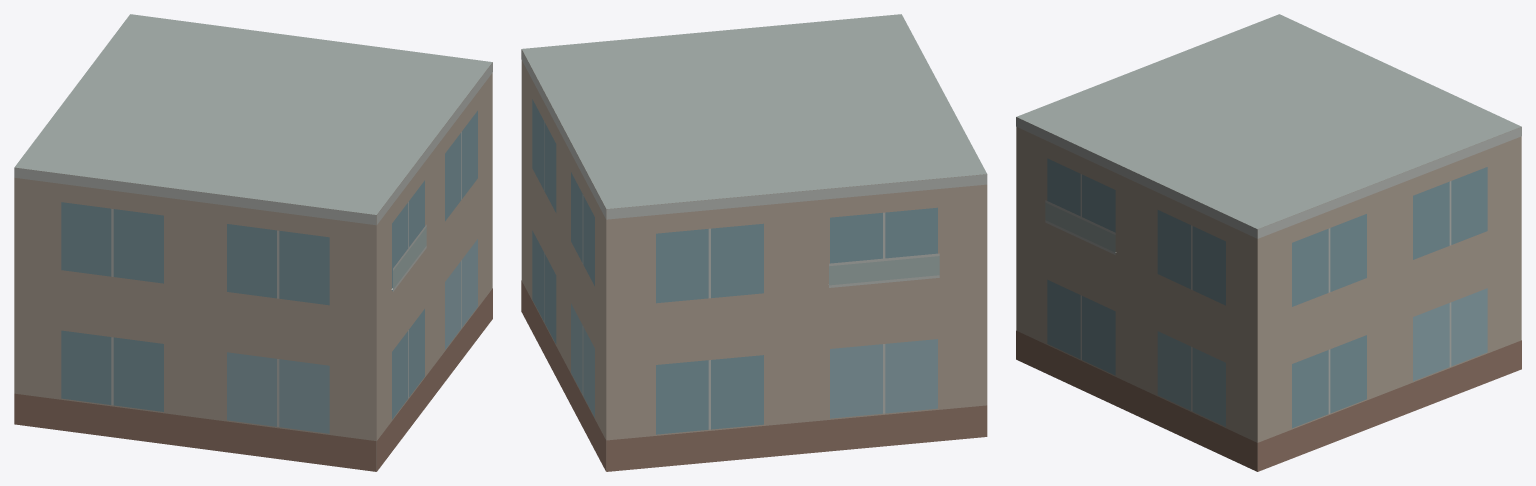
The model's file is survey-upis-32894052.glb.
3 renders of one model, left to right at view 1: azimuth 30°, elevation 25°; view 2: azimuth 150°, elevation 25°; view 3: azimuth 270°, elevation 25°, orthographic. The views are drawn at different scales.
Parts seen in each view (by area): view 1: survey-upis-32894052.tmp; view 2: survey-upis-32894052.tmp; view 3: survey-upis-32894052.tmp.
Boxes of the visible parts, left/top/right/bottom form: survey-upis-32894052.tmp: left=14, top=14, right=492, bottom=471; survey-upis-32894052.tmp: left=521, top=14, right=987, bottom=471; survey-upis-32894052.tmp: left=1016, top=14, right=1521, bottom=471.
Size of the model in its own units: 11.61 by 6.1 by 11.53.
